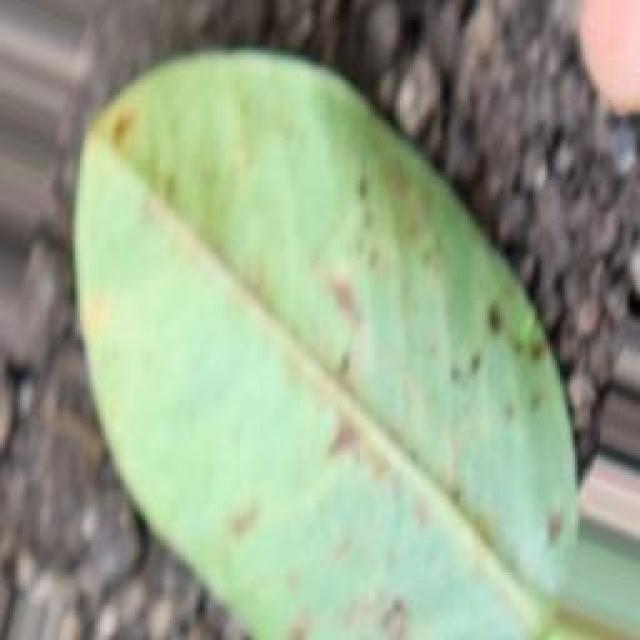Whitefly: (80, 120, 585, 638)
